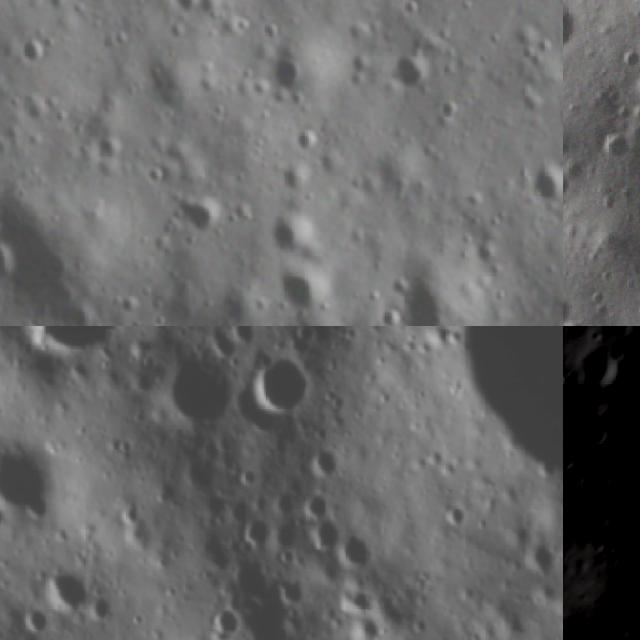crater: (0, 429, 66, 521), (162, 354, 236, 424), (17, 326, 131, 362), (253, 356, 319, 418), (574, 338, 626, 396), (270, 267, 334, 314), (174, 193, 220, 240), (271, 212, 310, 260), (44, 565, 87, 606), (572, 419, 614, 456), (206, 595, 238, 640), (392, 52, 429, 90), (618, 442, 640, 502), (563, 0, 583, 64), (339, 532, 372, 570), (614, 543, 640, 589), (270, 59, 302, 96), (238, 516, 268, 555), (309, 445, 342, 479), (293, 128, 327, 160), (524, 542, 559, 572), (17, 36, 50, 66), (302, 492, 332, 519), (20, 608, 51, 631), (93, 593, 113, 625), (315, 522, 336, 552), (223, 326, 257, 344), (169, 0, 197, 21), (439, 96, 458, 125), (449, 500, 465, 531), (536, 460, 558, 480), (563, 291, 574, 326), (556, 492, 563, 525)
